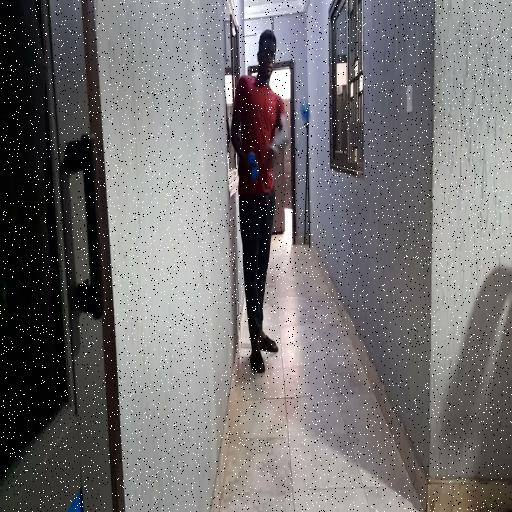plastic-ball: (300, 94, 311, 123)
